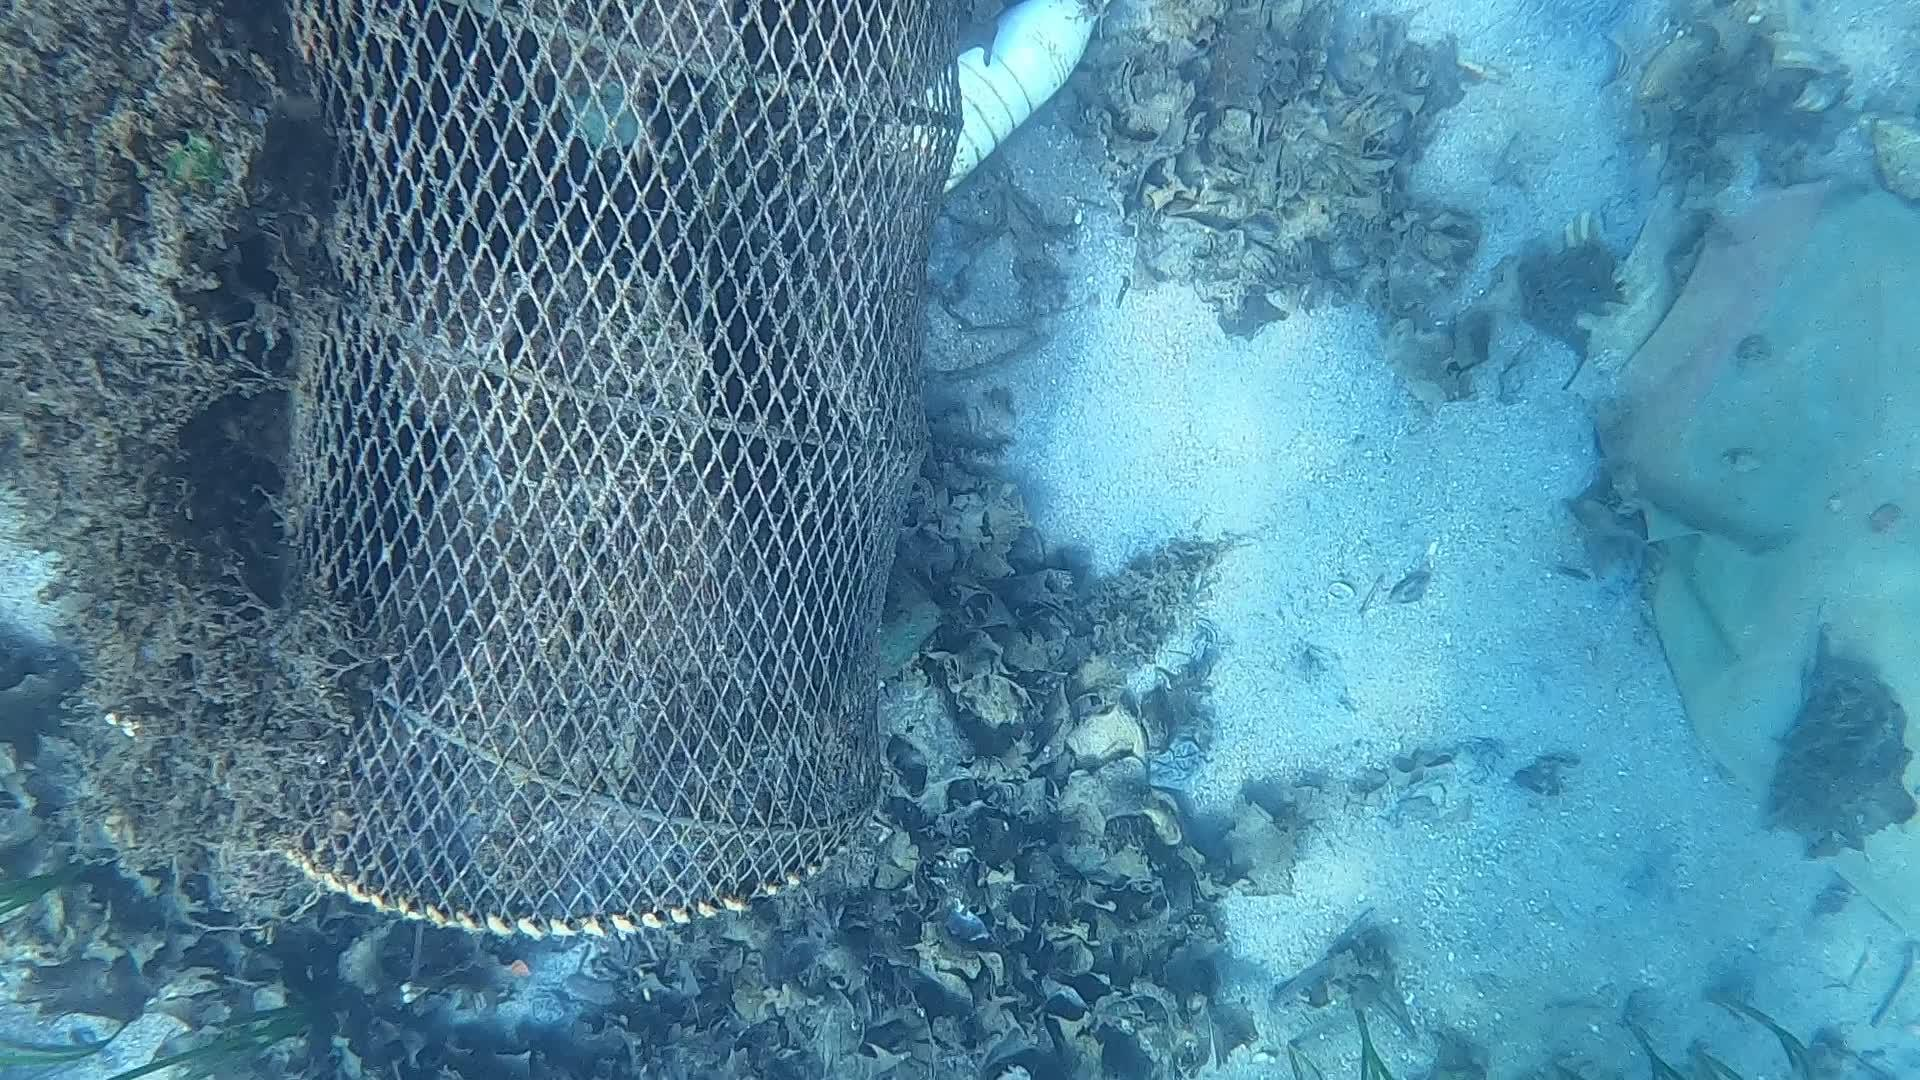spring fish trap: (253, 0, 971, 938)
